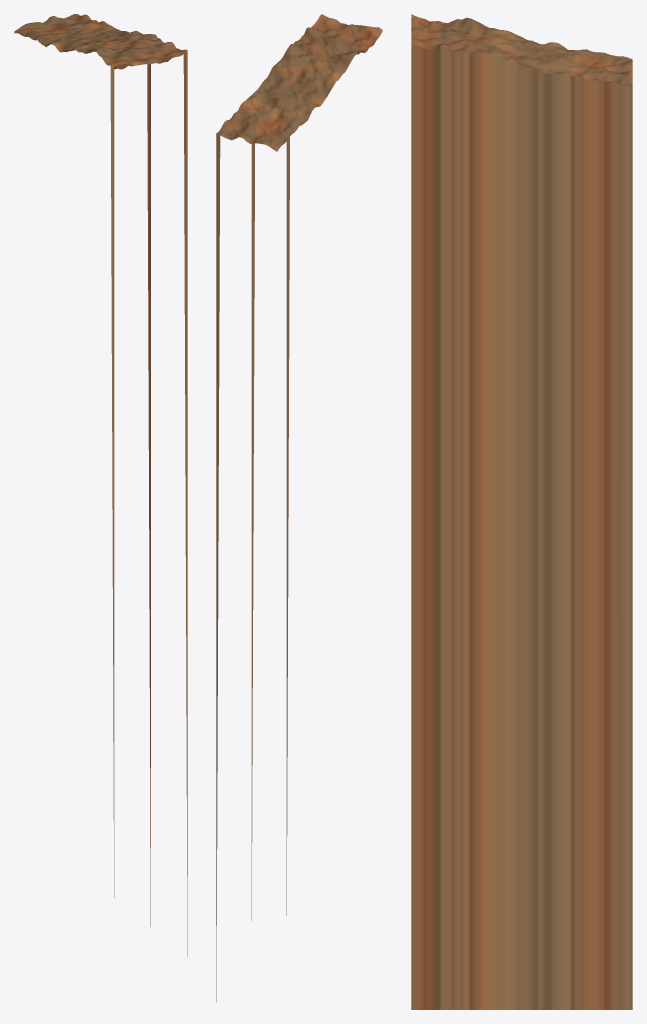
Rendered from terrain-169.glb.
The picture shows the model from 3 angles, left to right: view 1: azimuth 30°, elevation 25°; view 2: azimuth 150°, elevation 25°; view 3: azimuth 270°, elevation 25°; orthographic projection. The views are drawn at different scales.
Visible parts, largest first — view 1: terrain-169; view 2: terrain-169; view 3: terrain-169.
Part boxes in pixels (x1,y1,x2,y2): terrain-169: [14, 14, 187, 956]; terrain-169: [216, 14, 382, 1002]; terrain-169: [411, 14, 632, 1009].
Bounding box in the file's own units: 128 × 1851 × 384.
